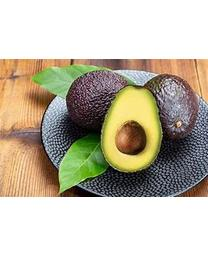avocado: (98, 83, 164, 174), (65, 70, 135, 131), (141, 73, 200, 142)
